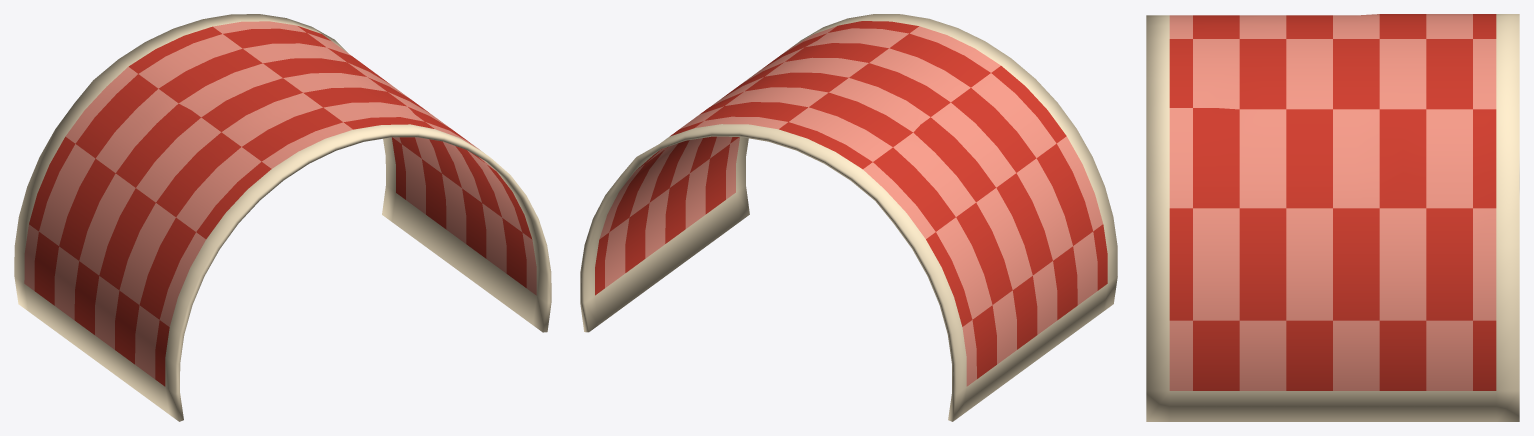
3 renders of one model, left to right at view 1: azimuth 30°, elevation 25°; view 2: azimuth 150°, elevation 25°; view 3: azimuth 270°, elevation 25°, orthographic. The views are drawn at different scales.
Visible parts, largest first — view 1: horse-blanket; view 2: horse-blanket; view 3: horse-blanket.
Boxes of the visible parts, x1,y1,x2,y2 form: horse-blanket: (14,14,551,421); horse-blanket: (580,14,1117,421); horse-blanket: (1146,14,1519,421).
Size of the model in its own units: 0.3172 by 0.1934 by 0.2351.
